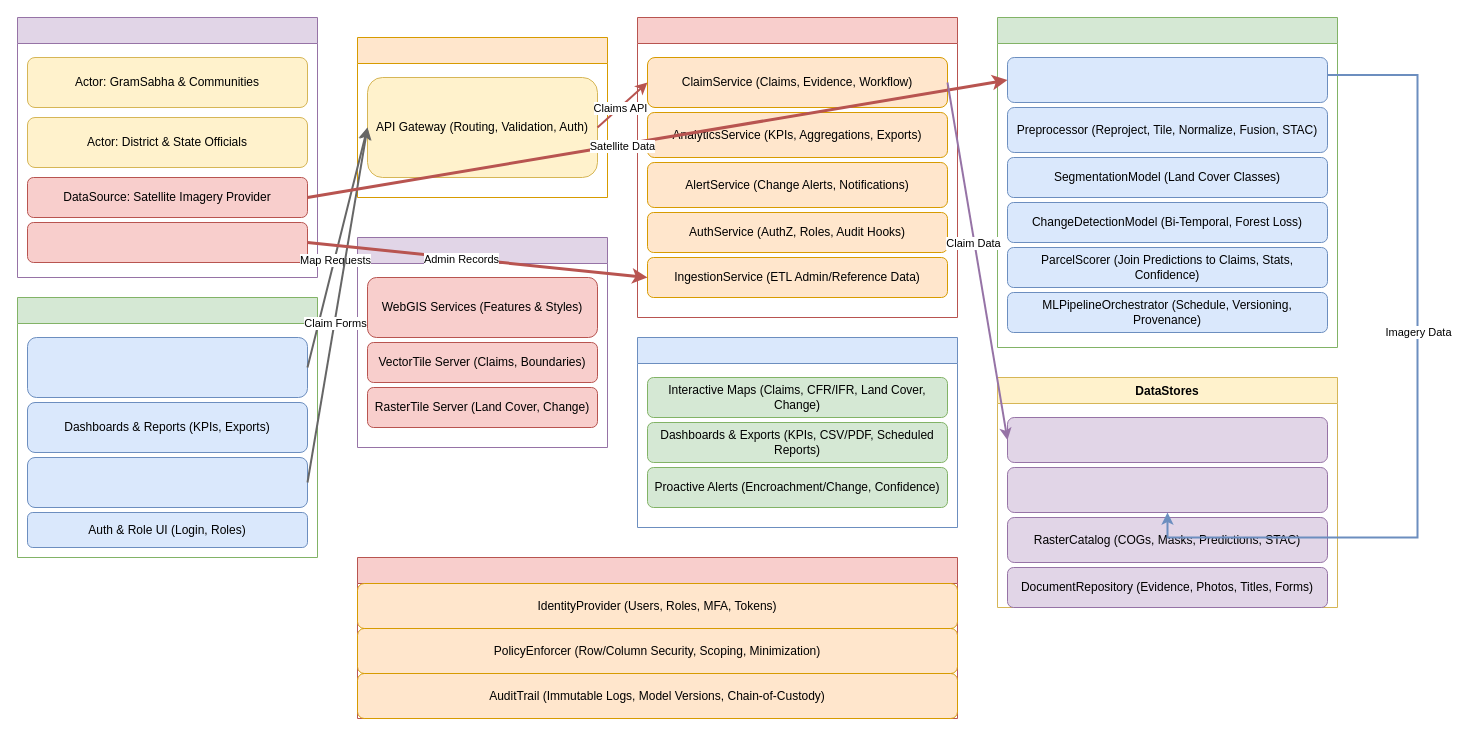
Image size: 1468x736. Some labels were removed from this diagram. The shapes that lost their labels are listed below. From the top down, each one's box as (x1, y1, x2, y2) in pixels, then its label:
(1006, 56, 1328, 102): ImageryFetcher (Optical/SAR, Metadata, Cloud Masks)
(356, 36, 608, 198): APILayer
(16, 16, 318, 278): External Inputs
(636, 16, 958, 318): ApplicationServices
(996, 16, 1338, 348): MLAndRemoteSensing
(26, 222, 308, 262): DataSource: Administrative Records
(356, 236, 608, 448): WebGISRendering
(26, 336, 308, 398): WebGIS Portal (Map, Layers, Search)
(16, 296, 318, 558): ClientApps
(636, 336, 958, 528): Outputs
(1006, 416, 1328, 462): OperationalDB (Claims, Users, Workflow, Alerts, KPIs, Audit)
(26, 456, 308, 508): Claim Submission UI (Forms, Uploads)
(1006, 466, 1328, 512): SpatialDataStore (Vectors: Claims, Boundaries, PAs)
(356, 556, 958, 718): SecurityAndGovernance
